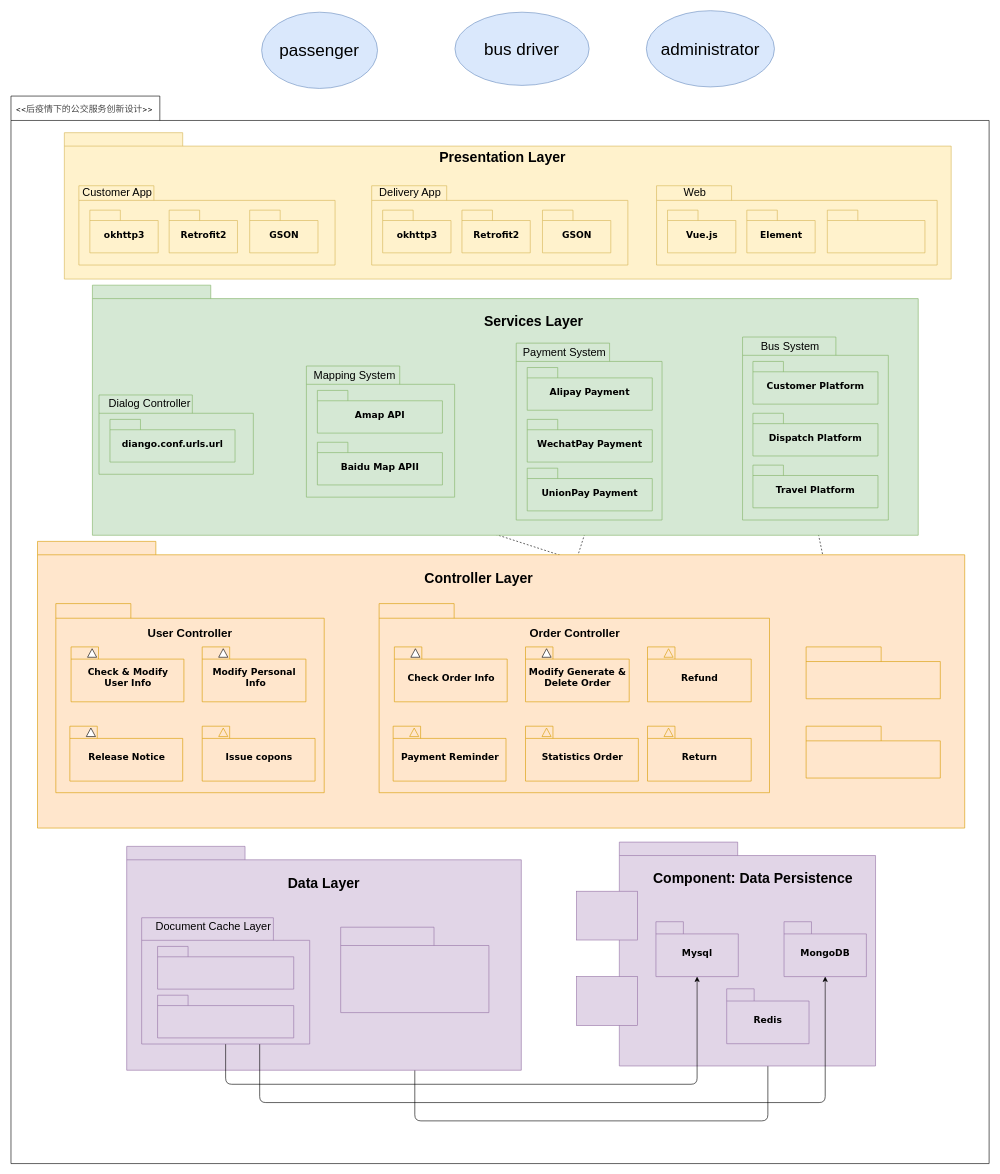
Some shapes in this 1000 by 1174 pixel diagram are drawn without their labels. The centre of each missing label's shape, as x and y in pixels:
Interaction Controller: the point at 873,752
K-V Framework: the point at 414,970
Location Controller: the point at 873,672
ODM Framework: the point at 225,1016
ORM Framework: the point at 225,967
Template Engind: the point at 876,231
